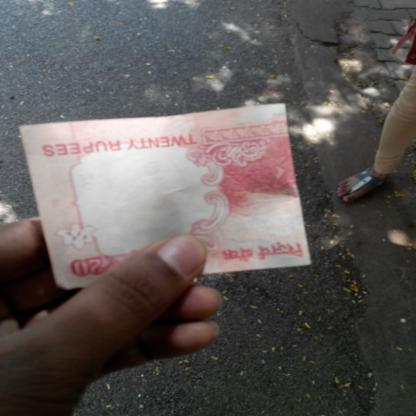Old20Back: (31, 117, 315, 281)
